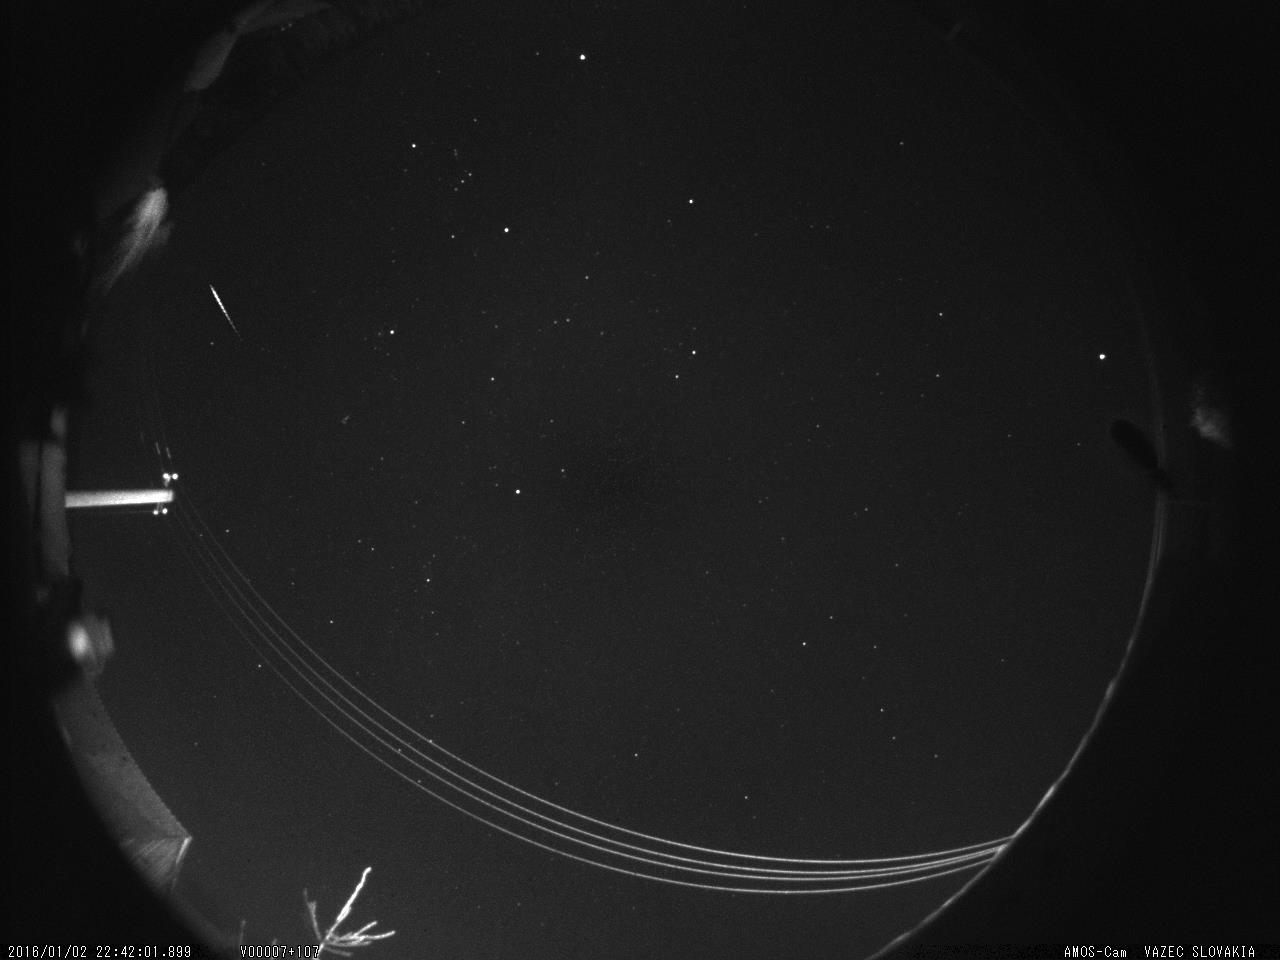meteor: (204, 279, 252, 342)
